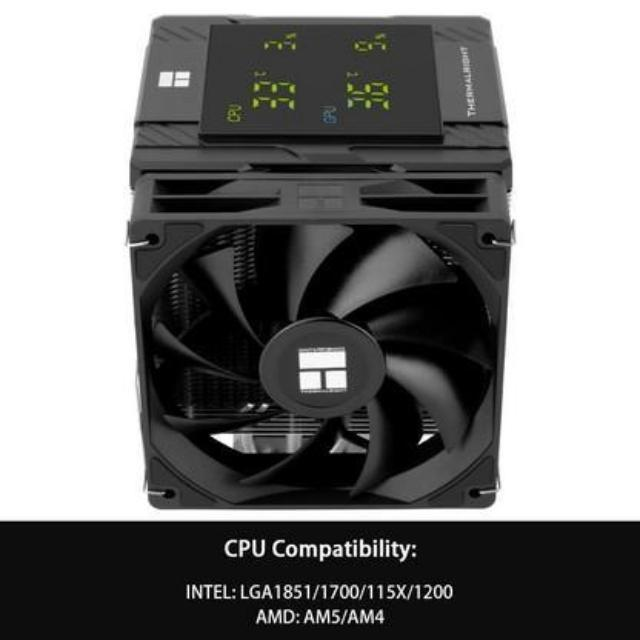CPU_Fan: (119, 0, 518, 511)
